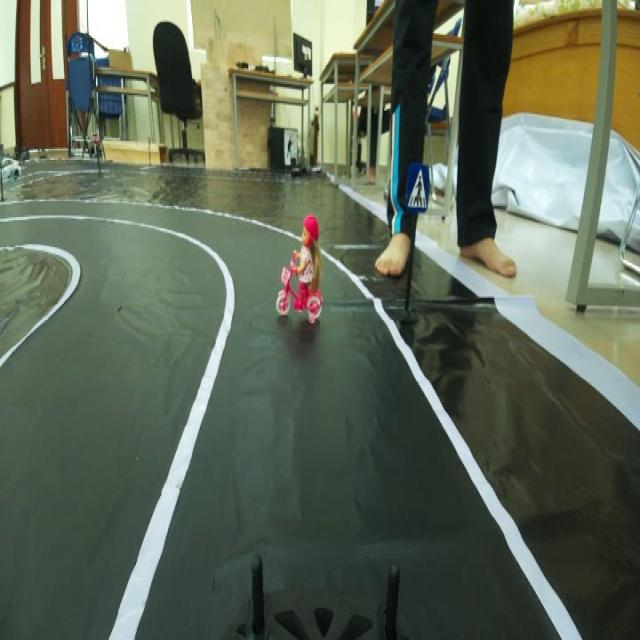crosswalk: (404, 158, 436, 229)
pedestrian: (282, 214, 330, 328)
